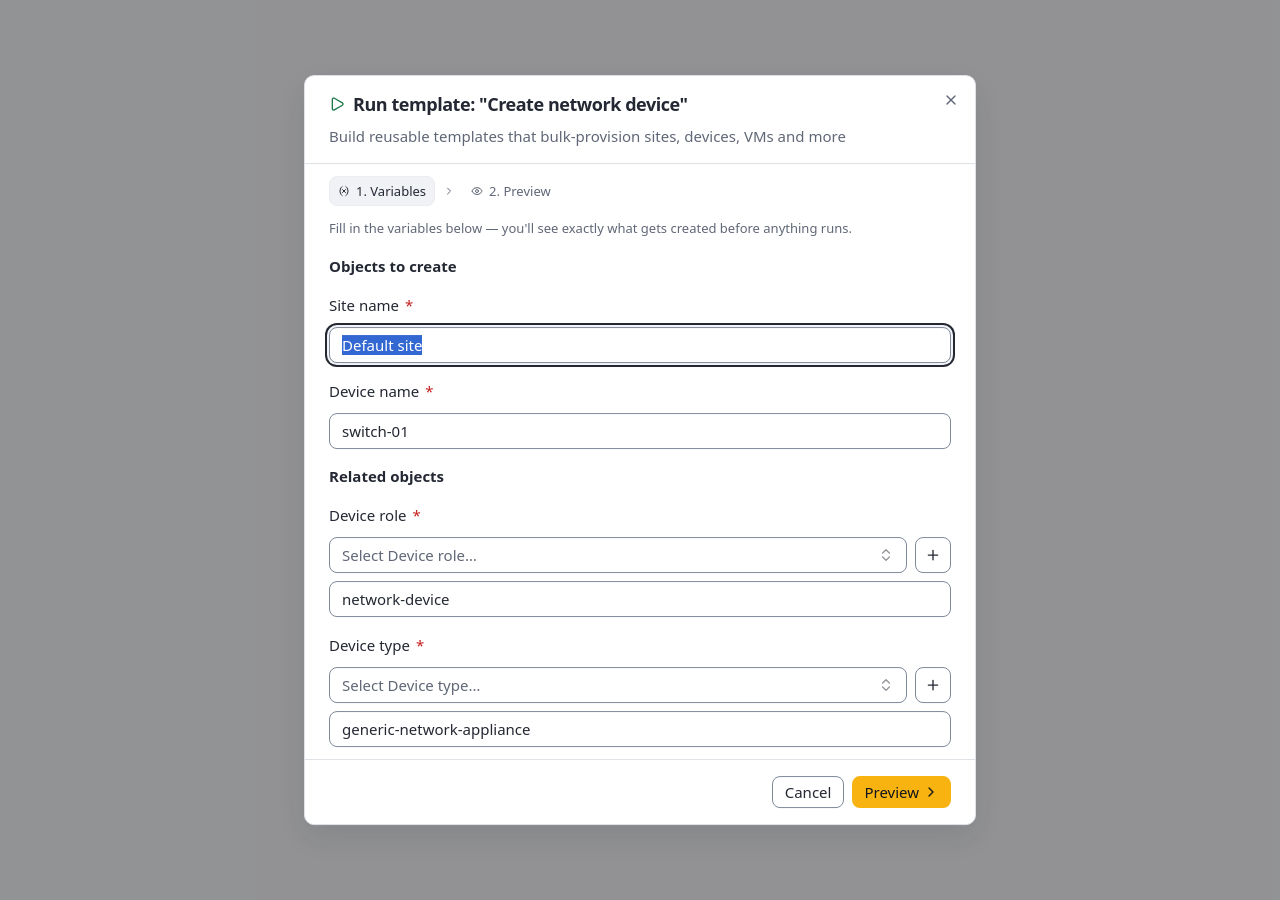
TemplateRunDialog reference variables › provides safe recovery instructions for HTTP 403
This screenshot has width=1280, height=900.
Click the button "Preview" at (902,792), box 852,776 -> 951,808
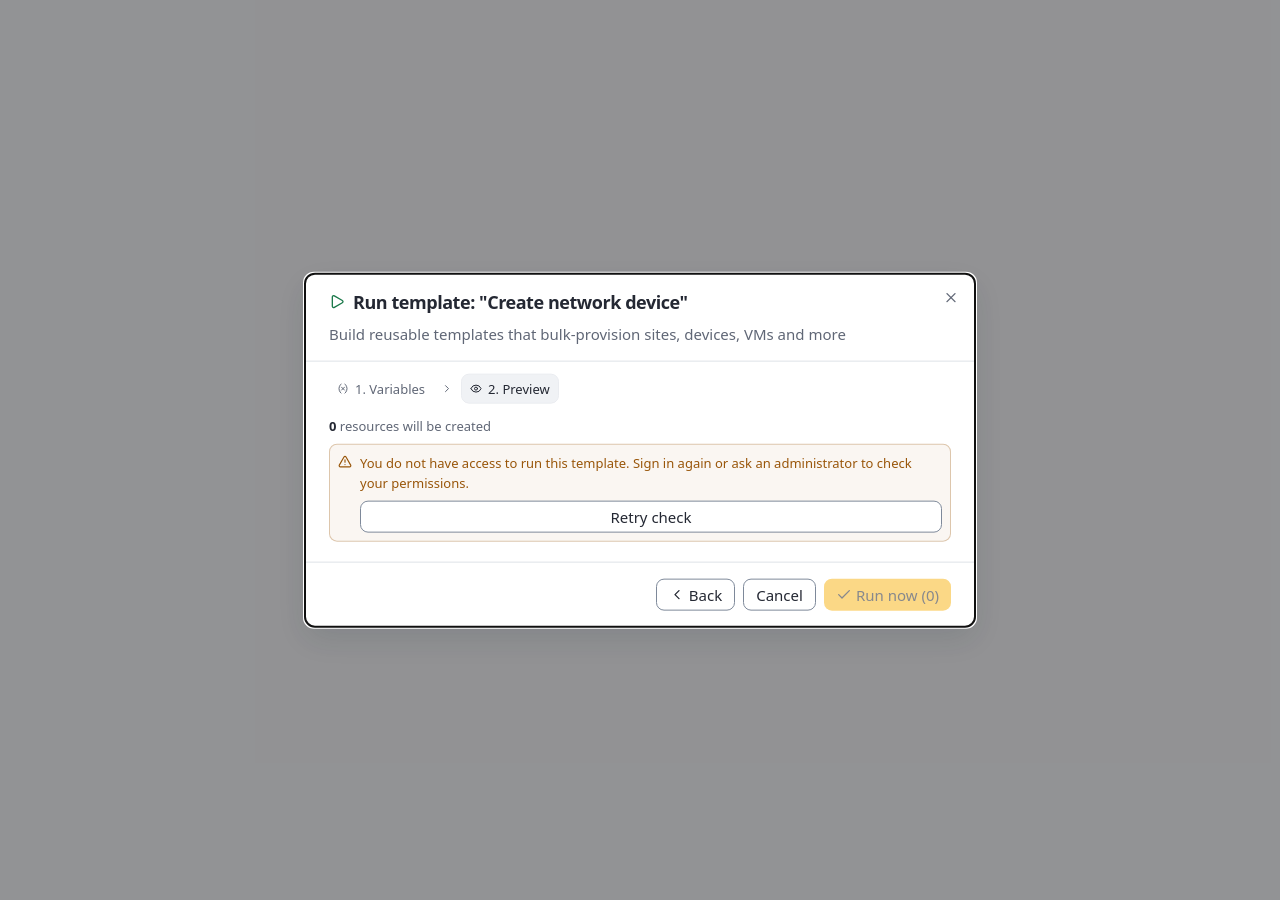
Result: the message shows "permissions" at 360,453 -> 912,491
Result: the button "Run now (0)" is disabled at 824,578 -> 951,610
